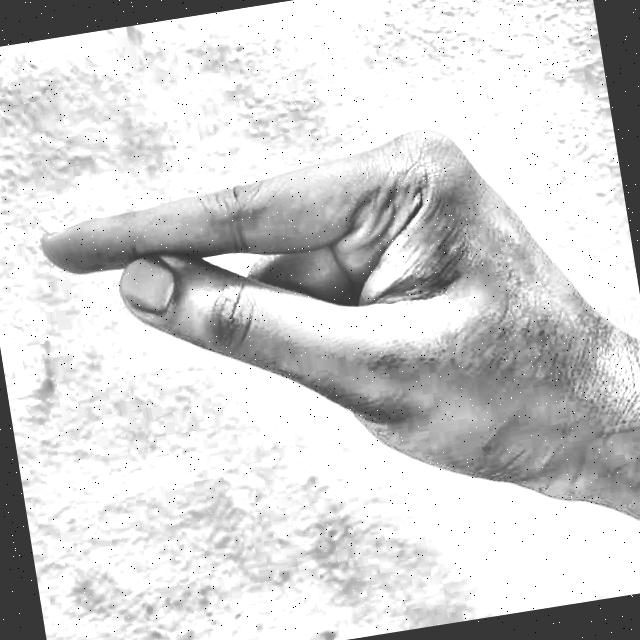Tha: (10, 68, 640, 623)
